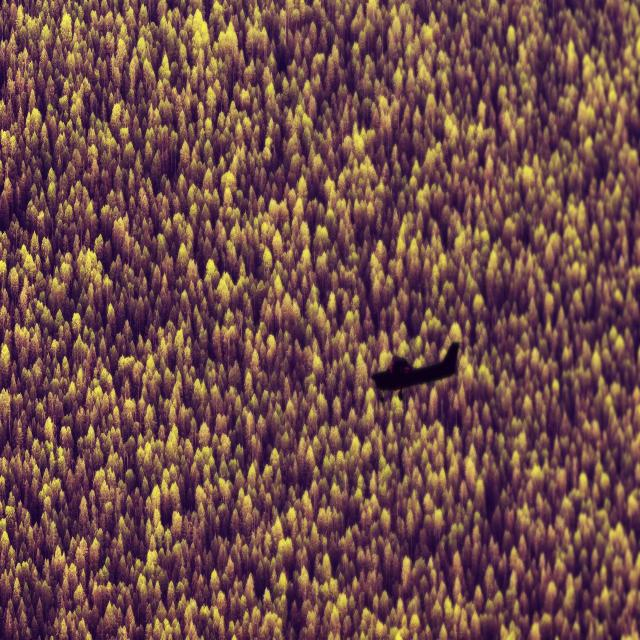airplane: (369, 340, 460, 398)
